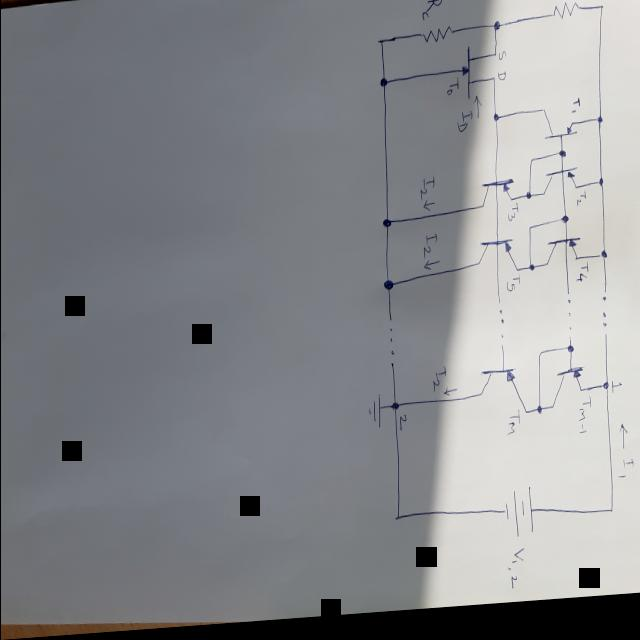ground: (367, 398, 382, 435)
junction: (390, 405, 400, 419), (492, 27, 502, 39), (560, 222, 570, 233), (381, 224, 391, 234), (384, 286, 392, 297), (558, 157, 566, 168), (528, 270, 536, 281), (566, 352, 574, 363), (598, 11, 606, 22), (600, 259, 608, 269), (524, 198, 532, 208), (608, 515, 616, 525), (392, 519, 400, 529), (492, 120, 499, 131), (535, 412, 542, 423), (597, 186, 604, 196), (596, 124, 603, 133), (602, 390, 608, 400), (379, 84, 386, 91), (526, 232, 532, 240), (528, 164, 534, 172), (378, 43, 384, 51), (537, 358, 543, 366)
resistor: (419, 33, 454, 51), (550, 9, 580, 29)
source: (501, 491, 534, 548)
text: (508, 555, 524, 595), (576, 405, 592, 444), (416, 179, 436, 208), (420, 237, 438, 268), (420, 1, 442, 26), (614, 467, 634, 491), (506, 417, 522, 446), (454, 117, 472, 141), (431, 371, 446, 398), (504, 281, 522, 302), (574, 271, 590, 294), (505, 210, 519, 233), (568, 103, 582, 126), (444, 85, 458, 104), (575, 199, 587, 216), (397, 420, 407, 438), (609, 388, 621, 403), (550, 0, 576, 5), (496, 78, 506, 90), (498, 58, 506, 69)
transistor: (478, 370, 526, 425), (460, 51, 497, 109), (549, 372, 586, 421), (478, 241, 518, 279), (540, 115, 578, 152), (544, 242, 582, 276), (480, 183, 515, 217), (544, 177, 578, 204)
